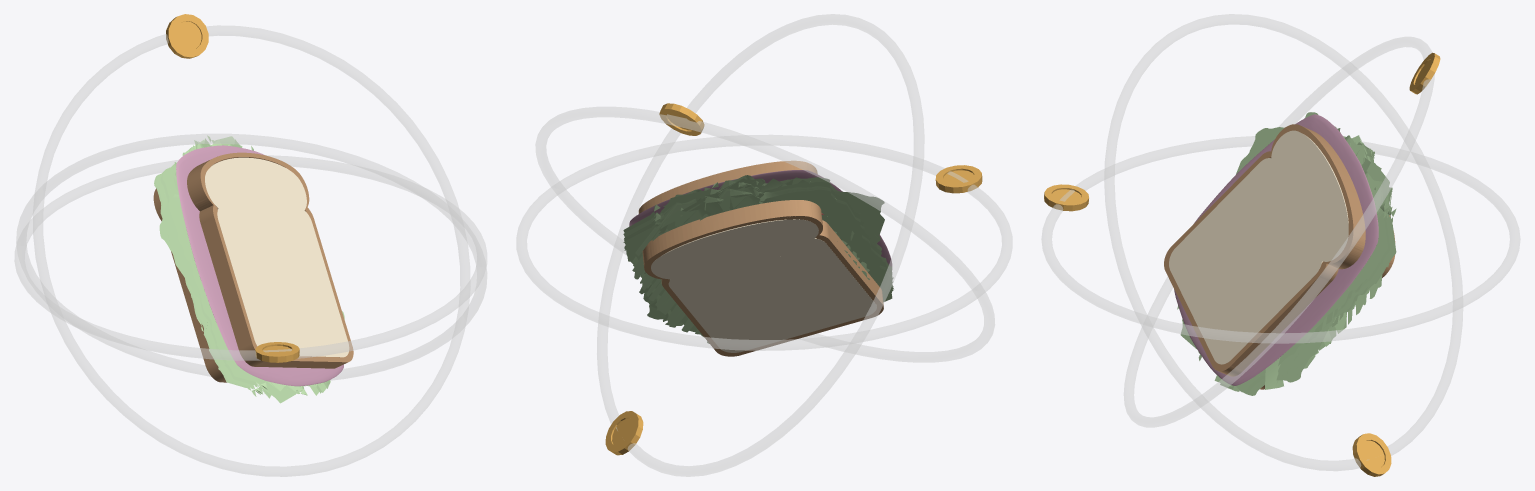
The model's file is sarnie.gltf.
3 views of the same model, side by side, from view 1: azimuth 30°, elevation 25°; view 2: azimuth 150°, elevation 25°; view 3: azimuth 270°, elevation 25° (orthographic). The views are drawn at different scales.
Visible parts, largest first — view 1: Object_10, Torus 3, Torus 2, Torus, Object_0, Object_1, Object_4, bitcoin (×2), Object_2, Object_7, Object_3, Object_6 (+1 smaller); view 2: Object_10, Torus 2, Torus, Torus 3, Object_2, Object_6, bitcoin (×3), Object_4, Object_3, Object_7, Object_5, Object_9 (+3 smaller); view 3: Object_10, Torus 2, Torus, Torus 3, Object_0, Object_1, Object_2, bitcoin (×3), Object_5, Object_6, Object_8, Object_4.
Part boxes in pixels (left/top/right/bottom): Object_10: left=205, top=157, right=349, bottom=357; Torus 3: left=32, top=25, right=470, bottom=476; Torus 2: left=16, top=133, right=487, bottom=380; Torus: left=14, top=155, right=487, bottom=360; Object_0: left=176, top=145, right=343, bottom=386; Object_1: left=153, top=188, right=351, bottom=368; Object_4: left=159, top=138, right=316, bottom=403; bitcoin (×2): left=166, top=14, right=299, bottom=362; Object_2: left=153, top=152, right=353, bottom=368; Object_7: left=155, top=147, right=269, bottom=394; Object_3: left=171, top=251, right=226, bottom=382; Object_6: left=154, top=135, right=344, bottom=398; Object_10: left=651, top=219, right=876, bottom=352; Torus 2: left=597, top=14, right=924, bottom=476; Torus: left=516, top=134, right=1012, bottom=350; Torus 3: left=535, top=106, right=994, bottom=362; Object_2: left=638, top=160, right=817, bottom=276; Object_6: left=639, top=178, right=893, bottom=319; bitcoin (×3): left=605, top=103, right=982, bottom=455; Object_4: left=641, top=175, right=893, bottom=308; Object_3: left=650, top=224, right=883, bottom=354; Object_7: left=632, top=184, right=893, bottom=334; Object_5: left=623, top=190, right=856, bottom=343; Object_9: left=624, top=182, right=892, bottom=332; Object_10: left=1169, top=130, right=1348, bottom=364; Torus 2: left=1104, top=14, right=1463, bottom=471; Torus: left=1041, top=136, right=1520, bottom=343; Torus 3: left=1123, top=36, right=1434, bottom=427; Object_0: left=1174, top=114, right=1378, bottom=385; Object_1: left=1164, top=151, right=1345, bottom=389; Object_2: left=1212, top=124, right=1395, bottom=376; bitcoin (×3): left=1044, top=52, right=1440, bottom=476; Object_5: left=1193, top=166, right=1396, bottom=395; Object_6: left=1276, top=126, right=1389, bottom=382; Object_8: left=1220, top=192, right=1393, bottom=394; Object_4: left=1177, top=112, right=1370, bottom=360.
Size of the model in its own units: 0.5231 by 0.4549 by 0.5231.
